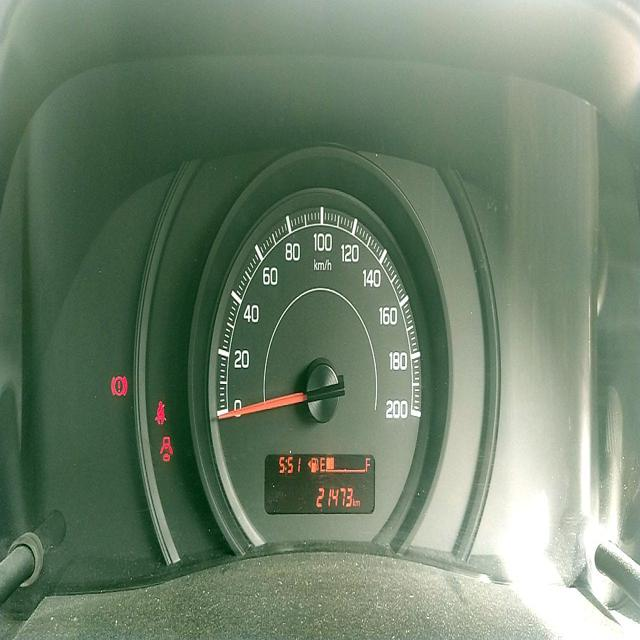odometer: (314, 483, 353, 509)
